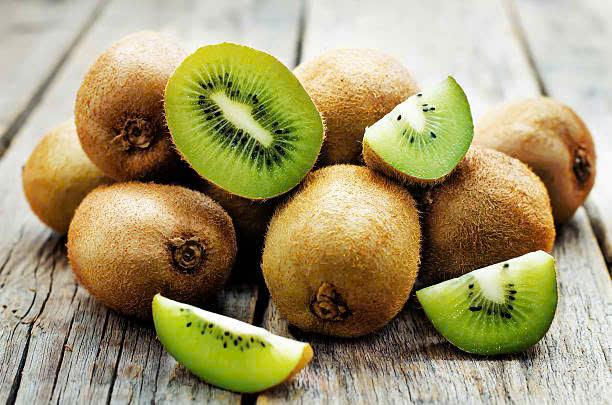kiwi: (264, 164, 430, 342), (160, 41, 328, 199), (146, 290, 322, 400), (412, 253, 571, 371), (69, 180, 222, 296), (78, 36, 176, 164), (359, 75, 478, 176)
